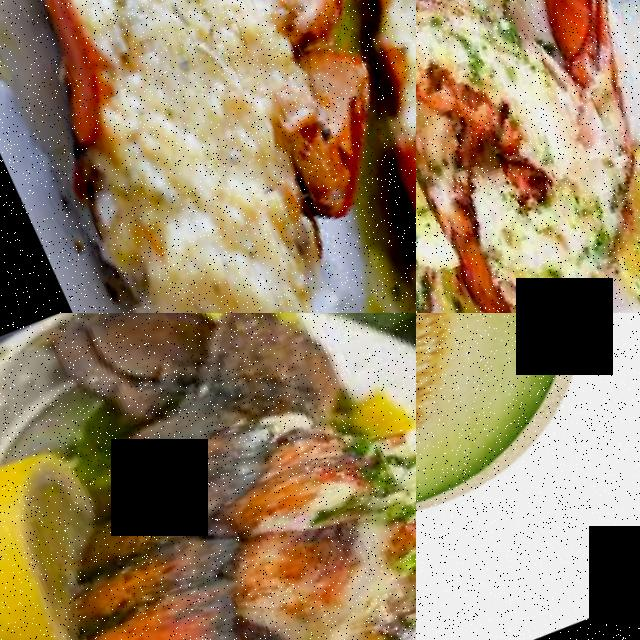lemon: (598, 151, 640, 308)
lobster tails: (13, 313, 416, 640), (491, 0, 640, 172), (416, 0, 501, 178)
melon: (416, 313, 640, 604)
